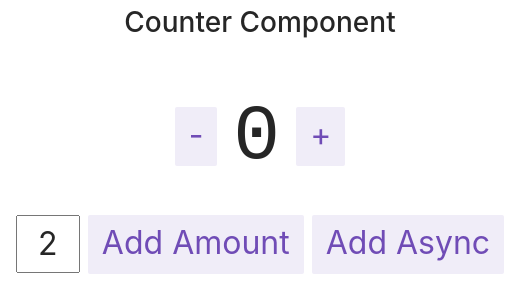
Test: ex3 <Counter /> --- uses @reduxjs/toolkit › increments the value
What coordinates should you click on to do the following:
click the button named "increment value"
I would click on:
 (321, 136)
Its box is [296,107,345,166].
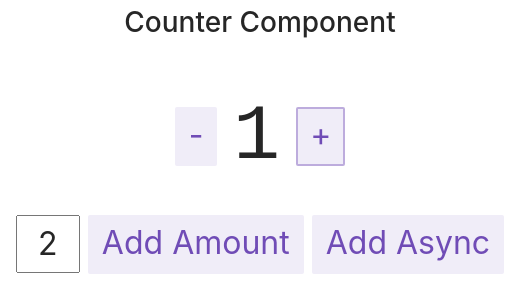
Now the text "1" is shown, box [233,93,280,181]
